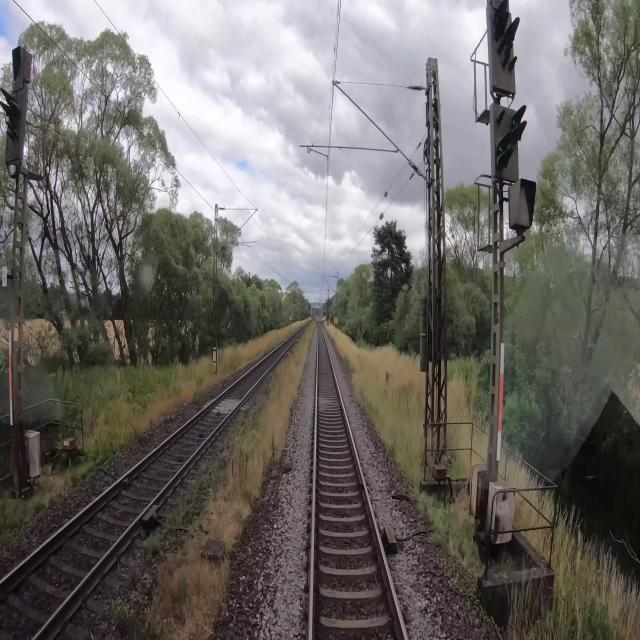Plant: (108, 328, 315, 639)
